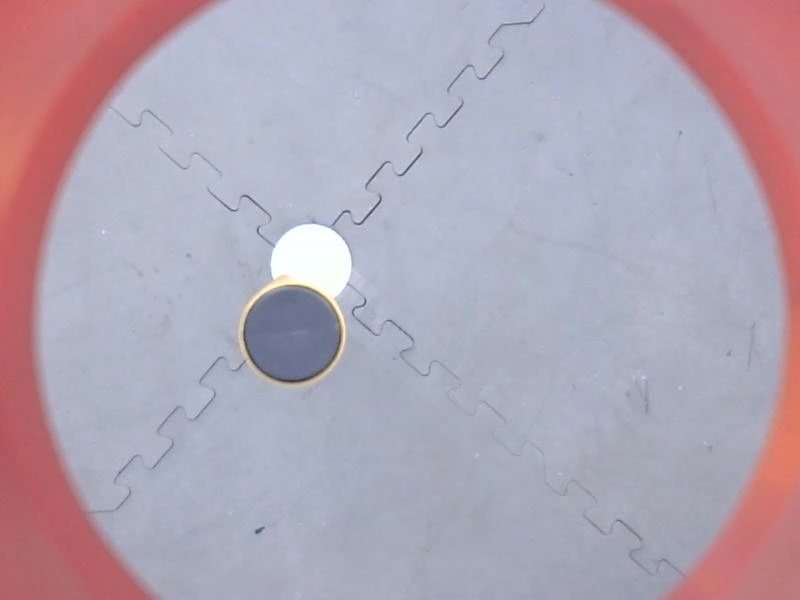tip: (232, 276, 351, 395)
